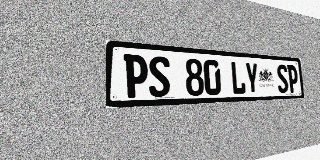0: (203, 59, 221, 95)
8: (185, 58, 204, 96)
L: (230, 61, 246, 94)
P: (124, 54, 148, 98), (287, 65, 299, 93)
S: (148, 56, 171, 97), (276, 64, 289, 93)
Y: (244, 62, 259, 94)
